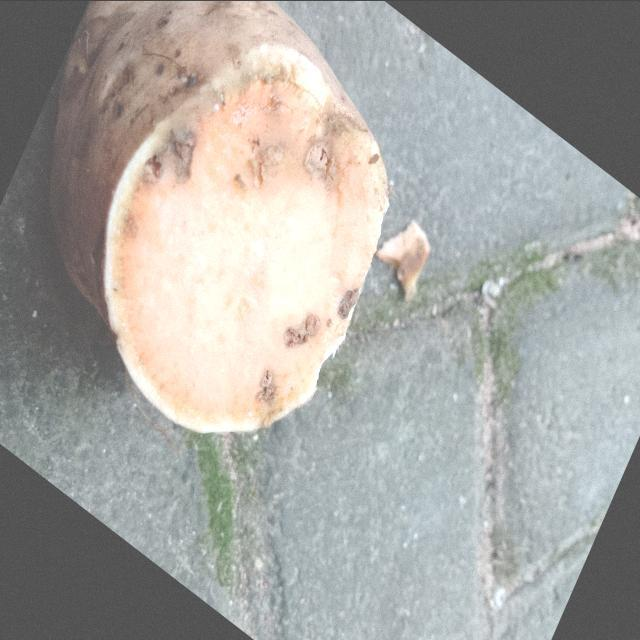Sick Sweet Potato_Tuber Rot: (109, 45, 389, 430)
